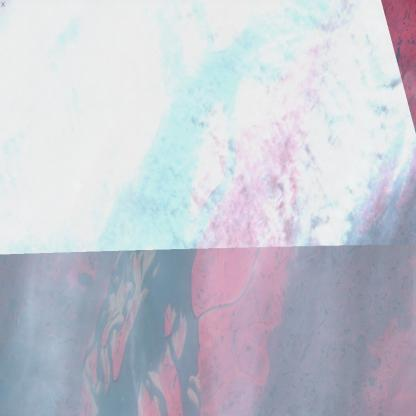fire: (381, 149, 416, 222)
